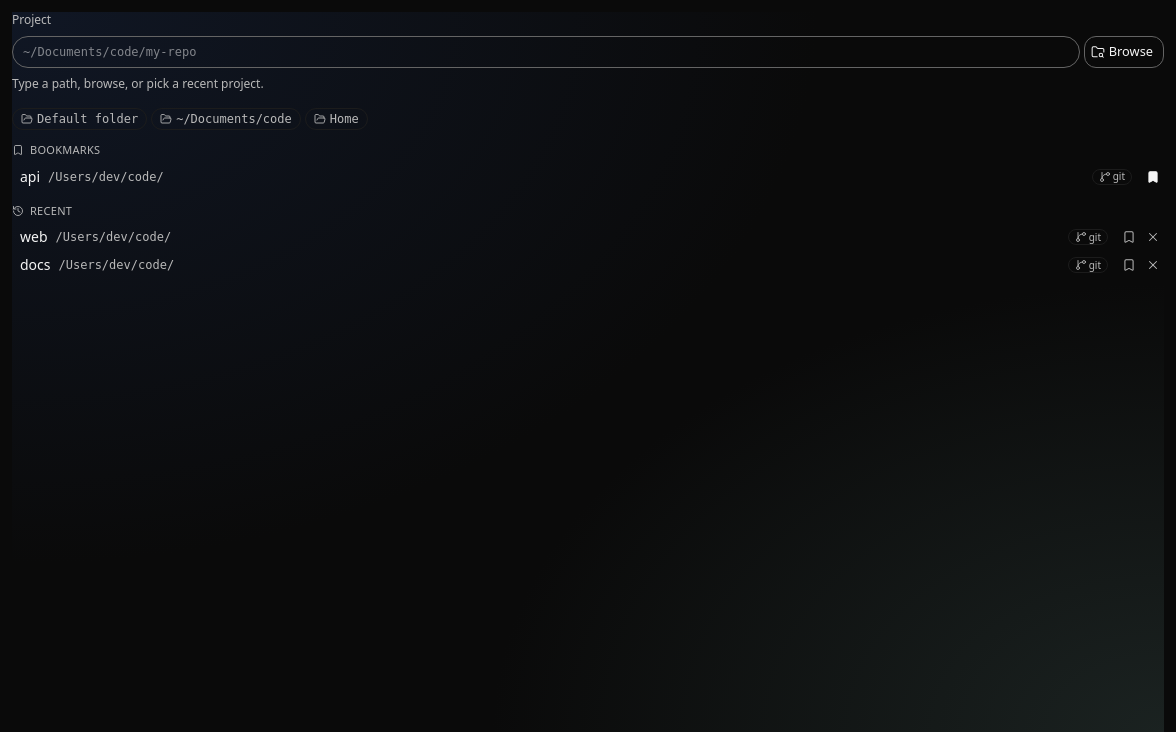
Scenario: default folder › offers the default folder as a chip that browses there
Click the button "Default folder": (80, 119) [12,108,147,130]
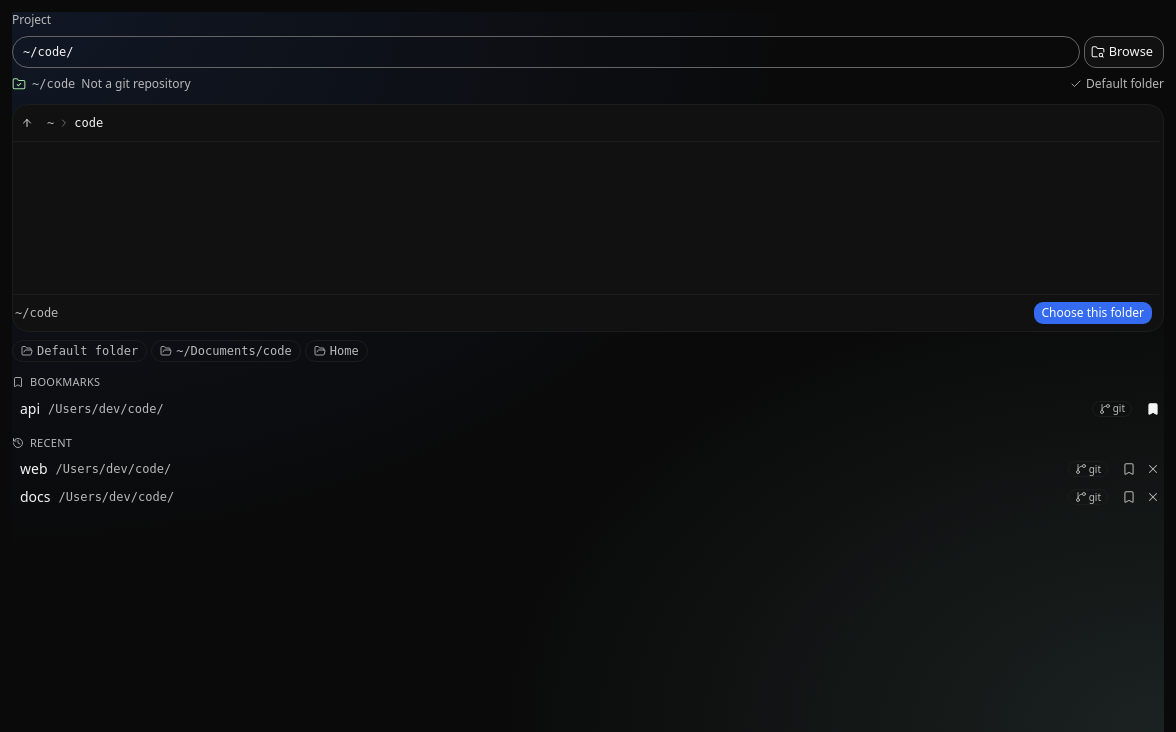
Expected: the dropdown named "Project path" holds "~/code/", [12,36,1080,68]
Expected: the button "code" is shown, [70,113,107,133]
